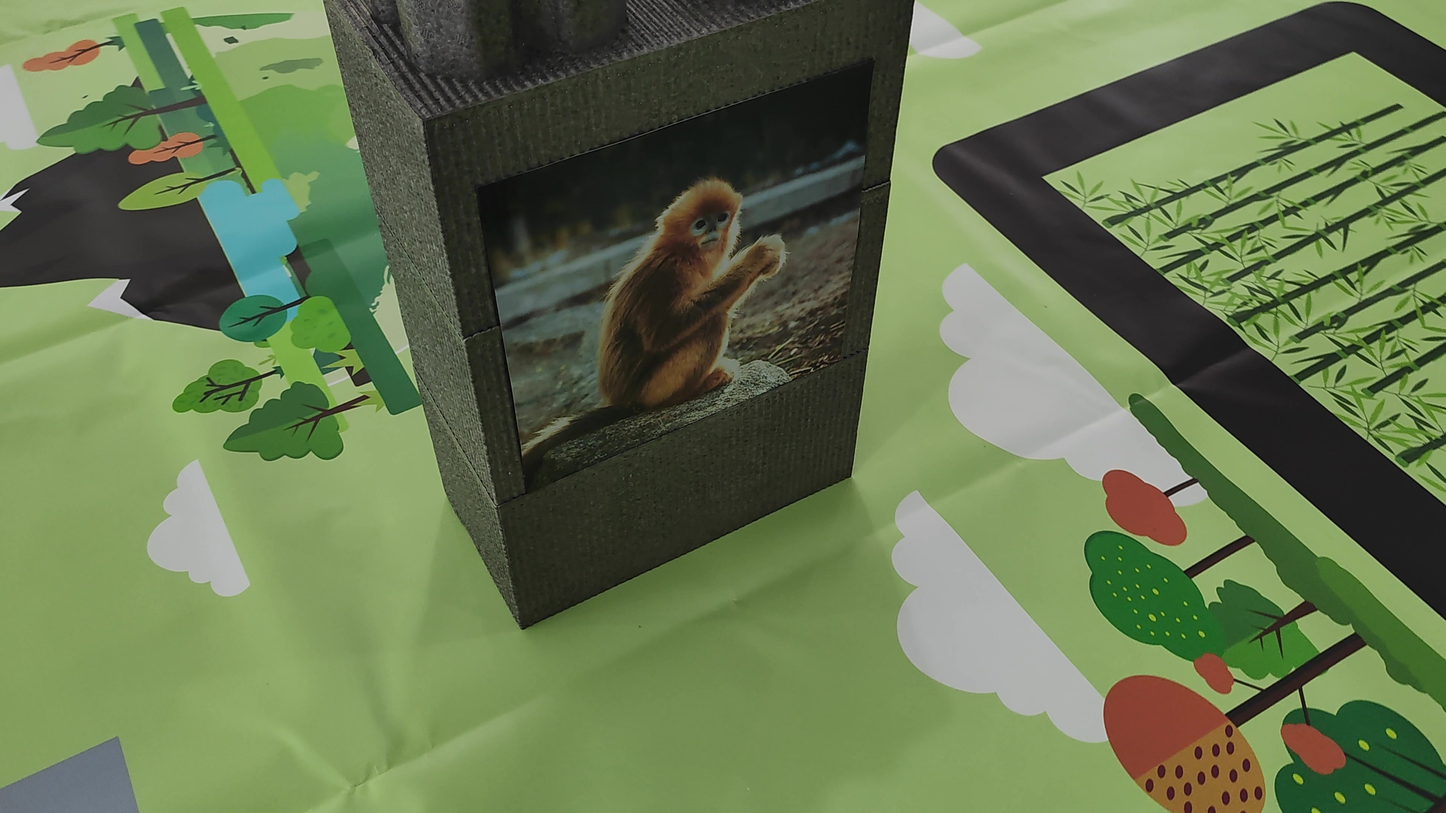monkey: (519, 177, 809, 506)
